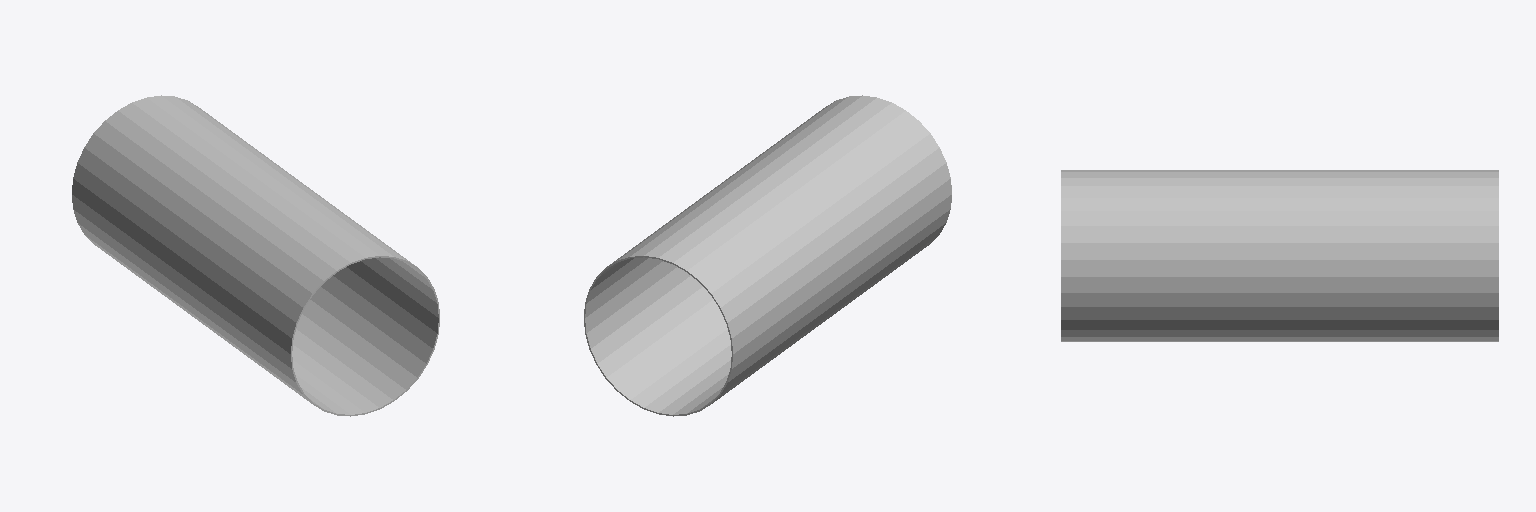
Rendered from ground.obj.
3 views of the same model, side by side, from view 1: azimuth 30°, elevation 25°; view 2: azimuth 150°, elevation 25°; view 3: azimuth 270°, elevation 25° (orthographic).
Parts seen in each view (by area): view 1: Cylinder; view 2: Cylinder; view 3: Cylinder.
Boxes of the visible parts, x1=… form: Cylinder: x1=72, y1=95, x2=439, y2=416; Cylinder: x1=584, y1=95, x2=951, y2=416; Cylinder: x1=1061, y1=170, x2=1498, y2=341.
Bounding box in the file's own units: 2.04 × 2.04 × 5.17.